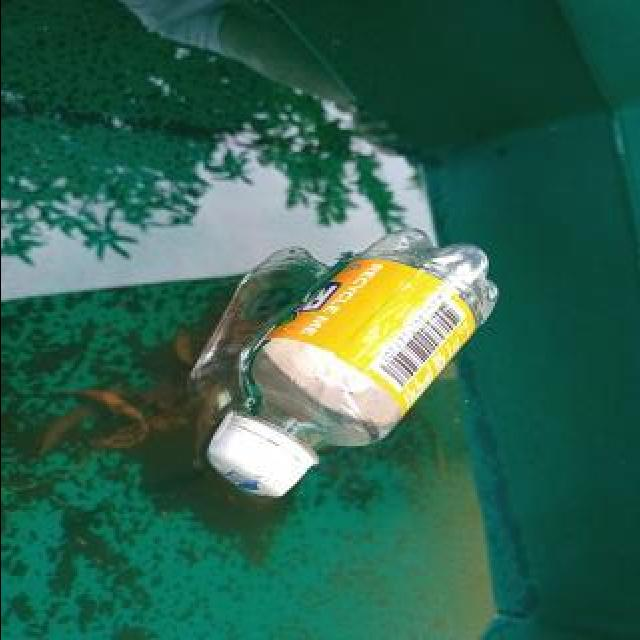Bottle: (193, 225, 506, 507)
